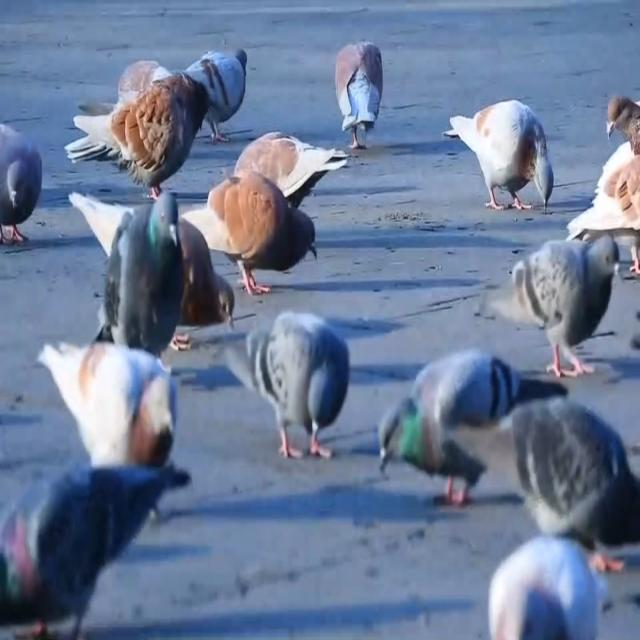bird: (0, 455, 199, 640), (370, 346, 564, 520), (64, 163, 236, 344), (448, 404, 640, 566), (35, 318, 196, 508), (233, 294, 358, 470), (492, 231, 626, 395), (98, 182, 188, 395), (59, 68, 220, 186), (158, 177, 339, 280), (441, 95, 559, 248), (474, 533, 620, 640), (0, 79, 54, 285), (225, 130, 354, 213), (178, 14, 253, 145), (572, 120, 640, 261), (320, 28, 388, 158), (590, 68, 590, 68)
